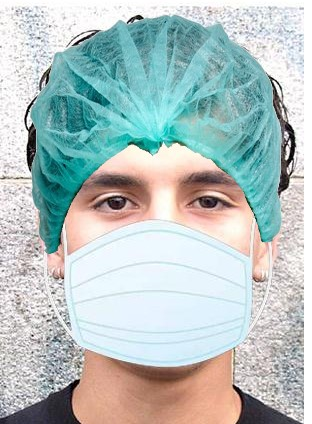with_mask_and_cap: (34, 19, 279, 371)
